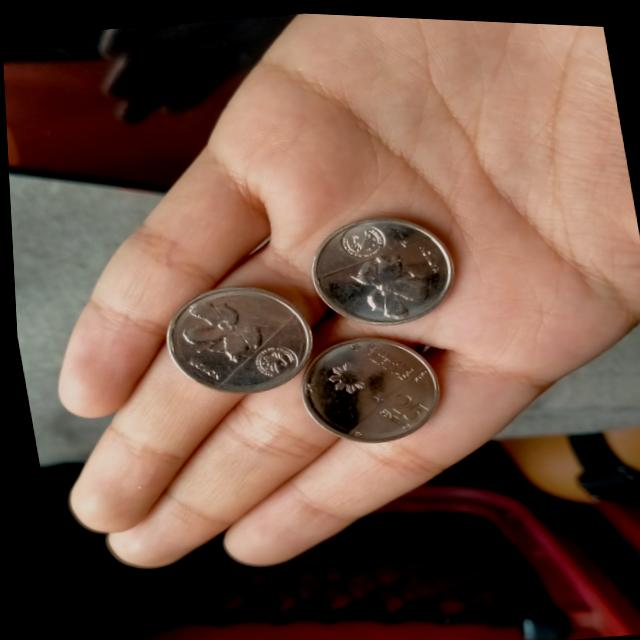25Cent_New_Back: (166, 289, 266, 366), (341, 245, 432, 321)
25Cent_New_Front: (370, 374, 442, 437)
